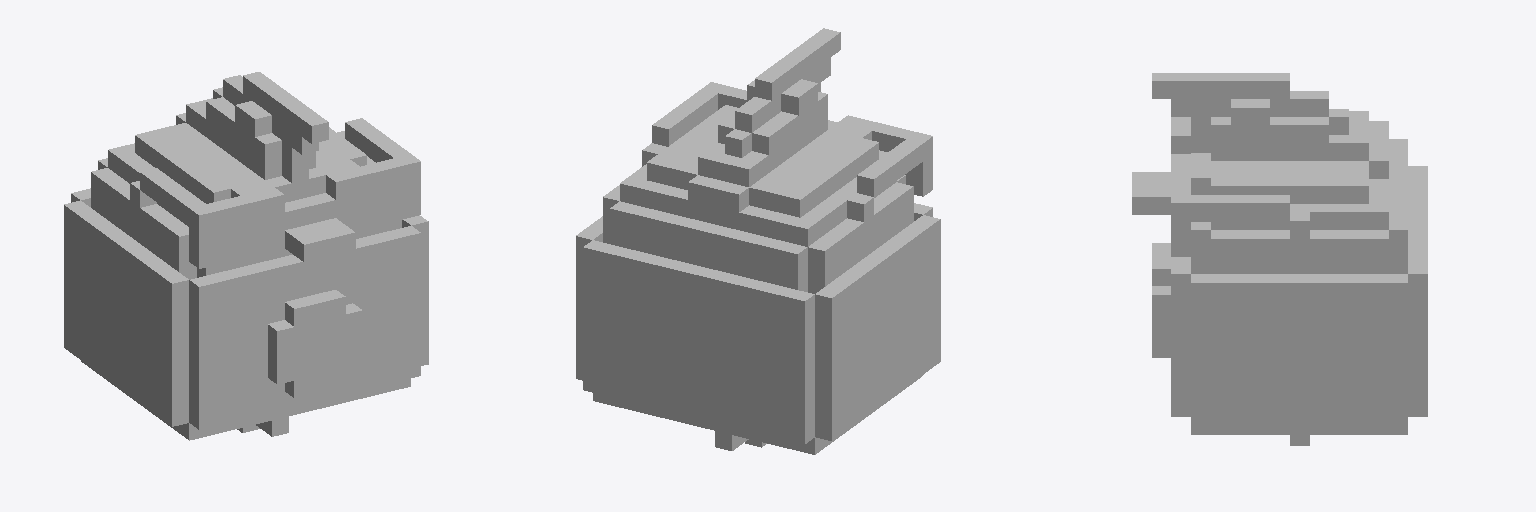
Rendered from Boss.obj.
3 views of the same model, side by side, from view 1: azimuth 30°, elevation 25°; view 2: azimuth 150°, elevation 25°; view 3: azimuth 270°, elevation 25° (orthographic).
Visible parts, largest first — view 1: Untitled; view 2: Untitled; view 3: Untitled.
Boxes of the visible parts, x1,y1,x2,y2 form: Untitled: [64, 72, 428, 440]; Untitled: [576, 28, 940, 454]; Untitled: [1132, 73, 1427, 445].
Size of the model in its own units: 1.5 by 2 by 1.5.